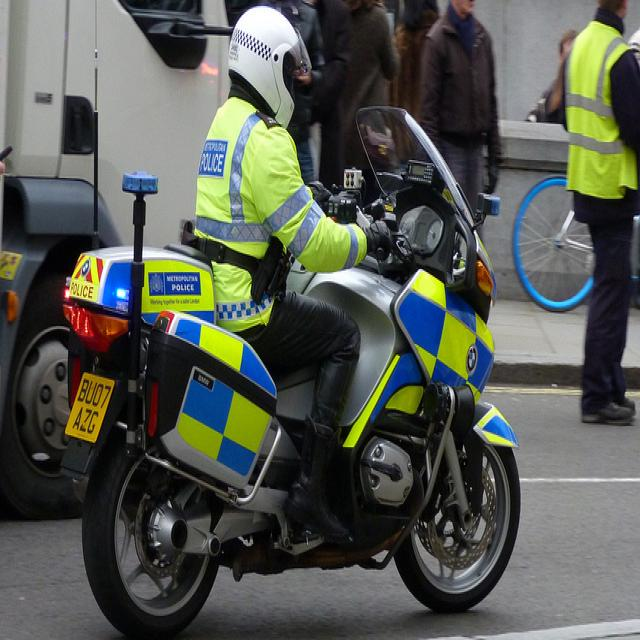motor: (50, 105, 537, 630)
